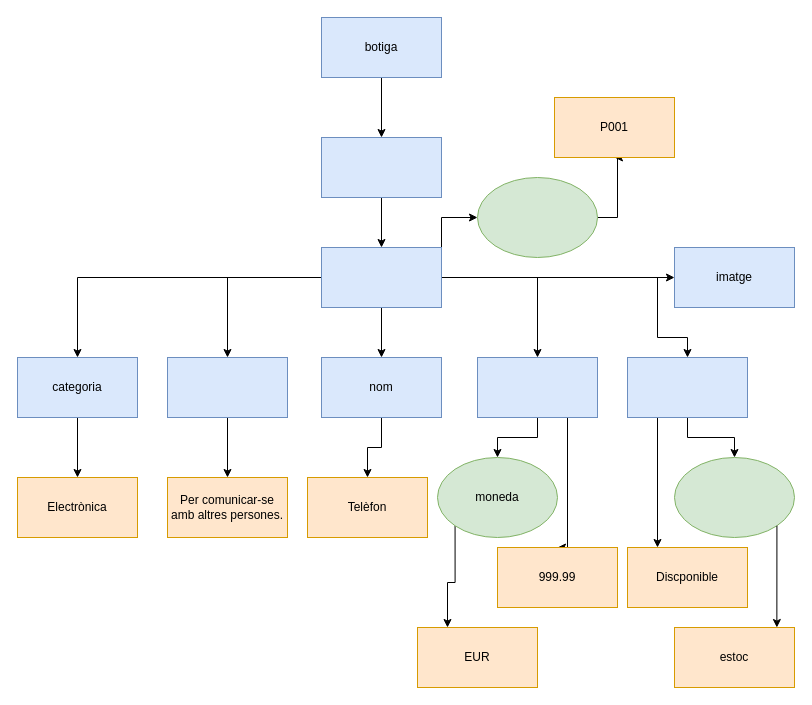
Image size: 812x705. Some labels were removed from this diagram. Each missing label, with the centre of its shape:
"descripcio" belongs at point 227,387.
"disponibilitat" belongs at point 687,387.
"estat" belongs at point 734,497.
"id" belongs at point 537,217.
"preu" belongs at point 537,387.
"producte" belongs at point 381,277.
"productes" belongs at point 381,167.
